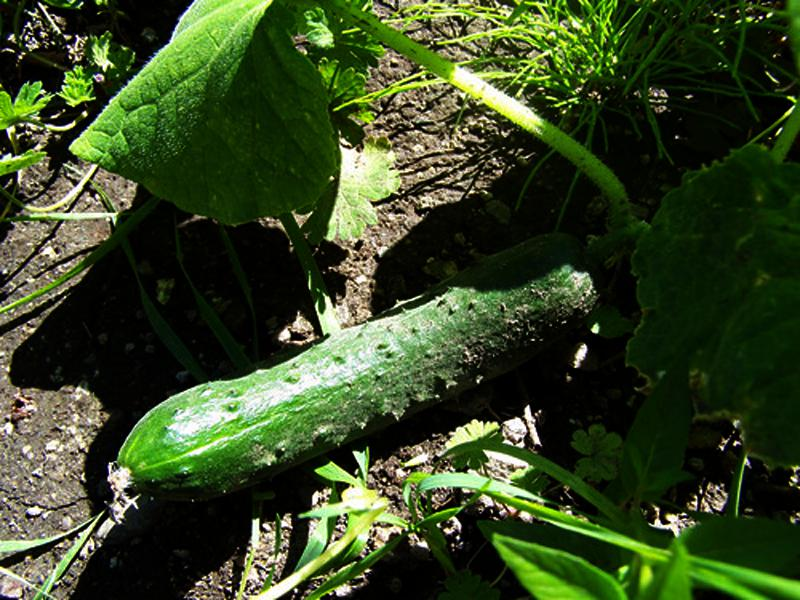Cucumber: (109, 230, 606, 502)
